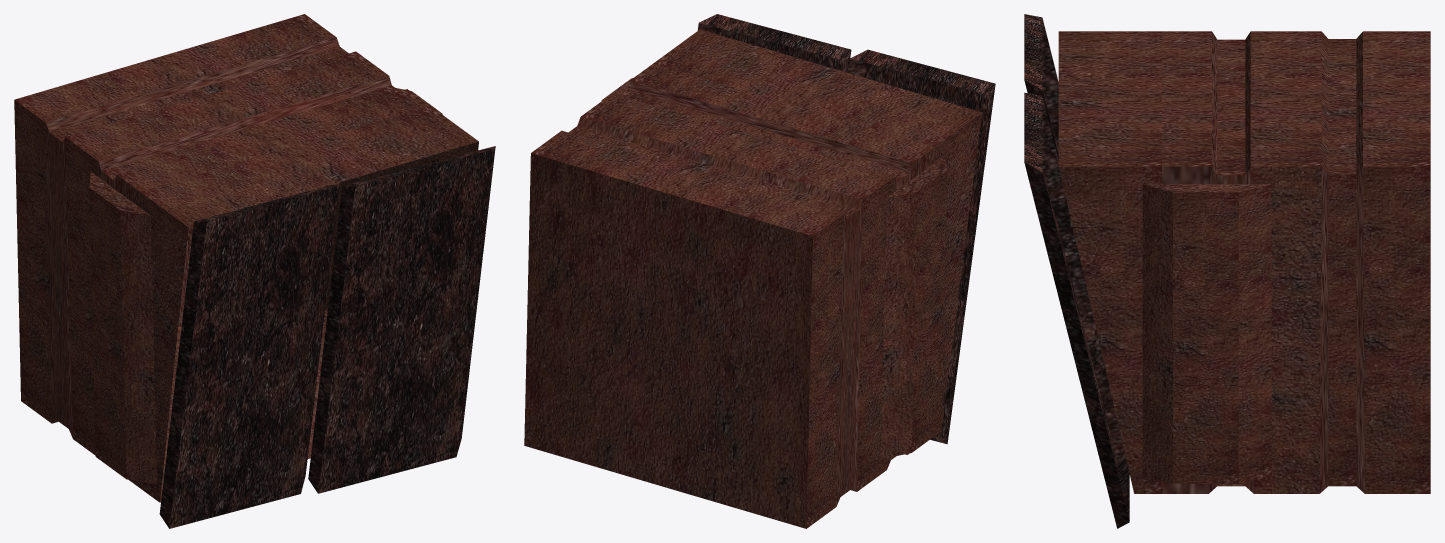
File: dumpsterts2_wtf.obj
3 renders of one model, left to right at view 1: azimuth 30°, elevation 25°; view 2: azimuth 150°, elevation 25°; view 3: azimuth 270°, elevation 25°, orthographic. The views are drawn at different scales.
Parts seen in each view (by area): view 1: group3, group2, group11, group8, group10, group6, group9; view 2: group4, group3, group8, group10, group11, group2, group9; view 3: group7, group3, group10, group2, group11, group9.
Part boxes in pixels (x1,y1,x2,y2): group3: (14,14,478,226); group2: (308,146,495,493); group11: (159,183,339,528); group8: (14,100,188,502); group10: (89,188,156,484); group6: (160,141,478,502); group9: (89,88,442,215); group4: (524,153,812,528); group3: (531,29,981,235); group8: (806,113,981,528); group10: (880,170,947,458); group11: (848,49,995,444); group2: (697,14,851,72); group9: (601,78,947,197); group7: (1059,166,1430,493); group3: (1058,31,1430,175); group10: (1142,184,1271,483); group2: (1024,92,1129,528); group11: (1024,14,1058,159); group9: (1143,184,1270,192).
Bounding box in the file's own units: 660 × 660 × 660.
